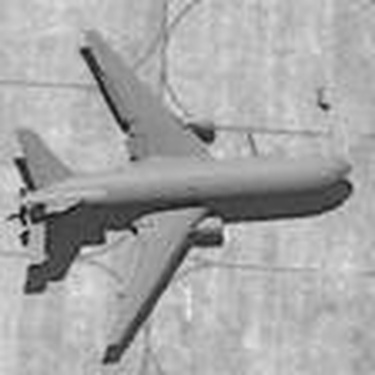airplane: (7, 13, 361, 366)
